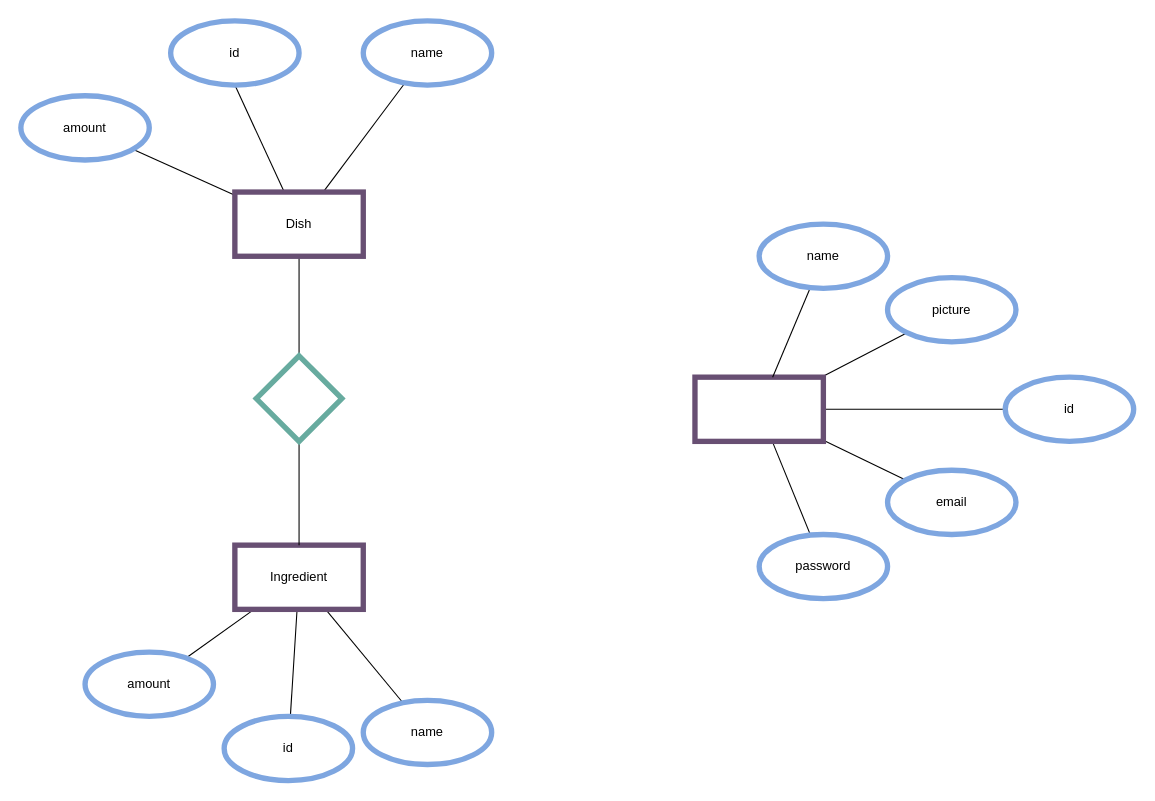
This 1155x801 diagram has some shape labels left out. The centre of each missing label's shape, as x and y in pixels:
"have" belongs at pixel 298 398.
"User" belongs at pixel 759 409.
